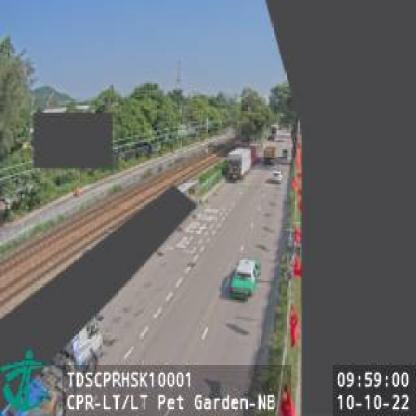Car: (228, 256, 259, 297), (271, 170, 283, 184)
Truck: (226, 148, 251, 181), (263, 146, 276, 165)
